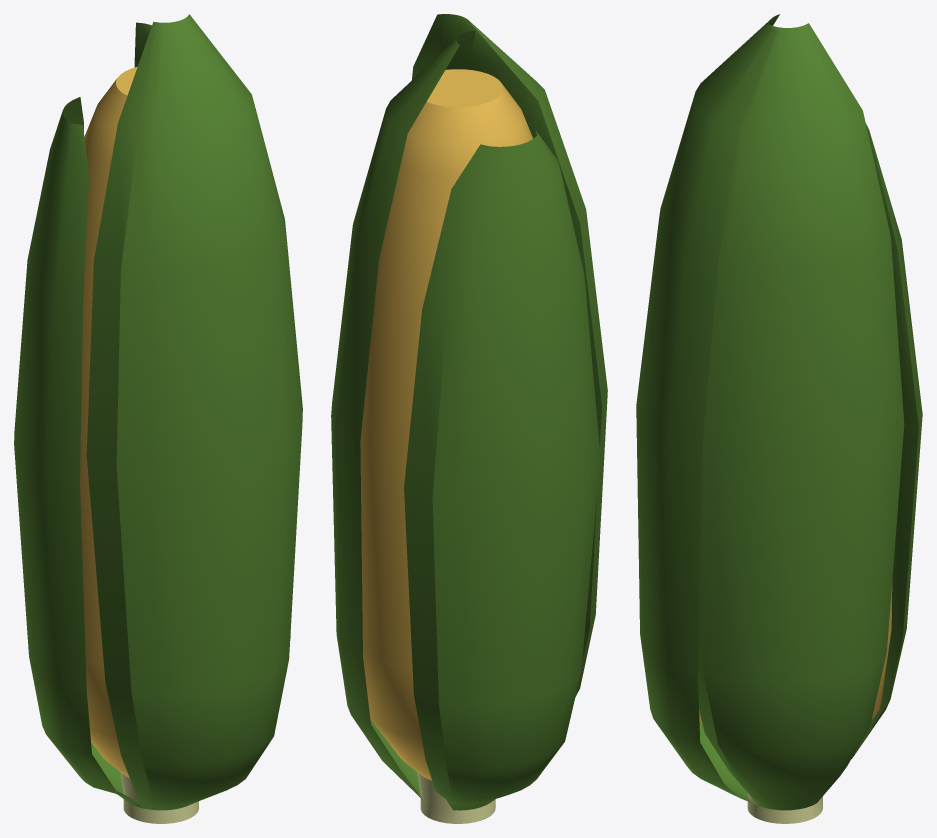
The model's file is corn.fbx.
3 views of the same model, side by side, from view 1: azimuth 30°, elevation 25°; view 2: azimuth 150°, elevation 25°; view 3: azimuth 270°, elevation 25° (orthographic).
Visible parts, largest first — view 1: Cylinder.004; view 2: Cylinder.004; view 3: Cylinder.004.
Boxes of the visible parts, left/top/right/bottom form: Cylinder.004: left=14, top=14, right=302, bottom=823; Cylinder.004: left=331, top=14, right=607, bottom=823; Cylinder.004: left=636, top=14, right=922, bottom=823.
Size of the model in its own units: 7.14 by 22.35 by 7.35.
